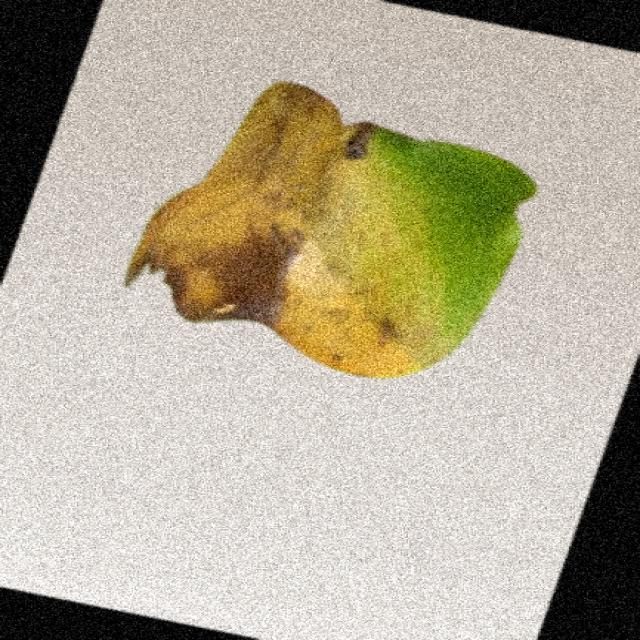daun berpenyakit kuning: (127, 82, 536, 377)
